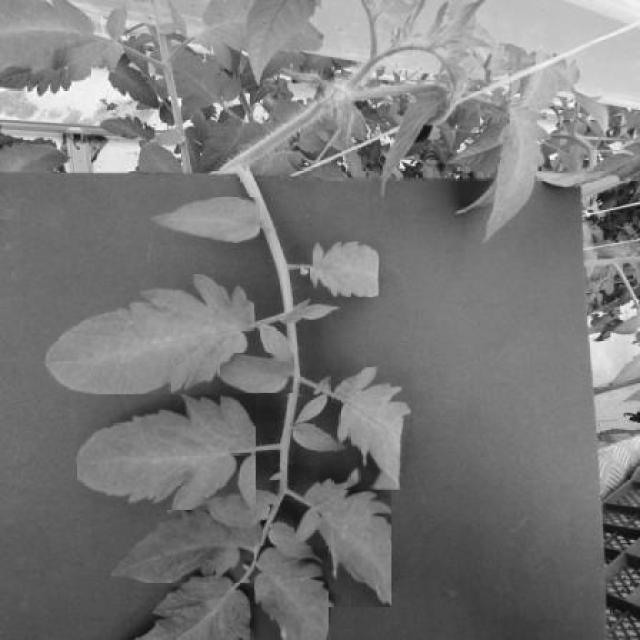Healthy: (46, 275, 254, 394), (77, 394, 256, 515), (294, 466, 392, 607), (111, 510, 263, 583), (334, 367, 412, 490), (254, 545, 328, 640), (153, 197, 260, 243), (311, 242, 379, 297), (220, 353, 294, 393)
